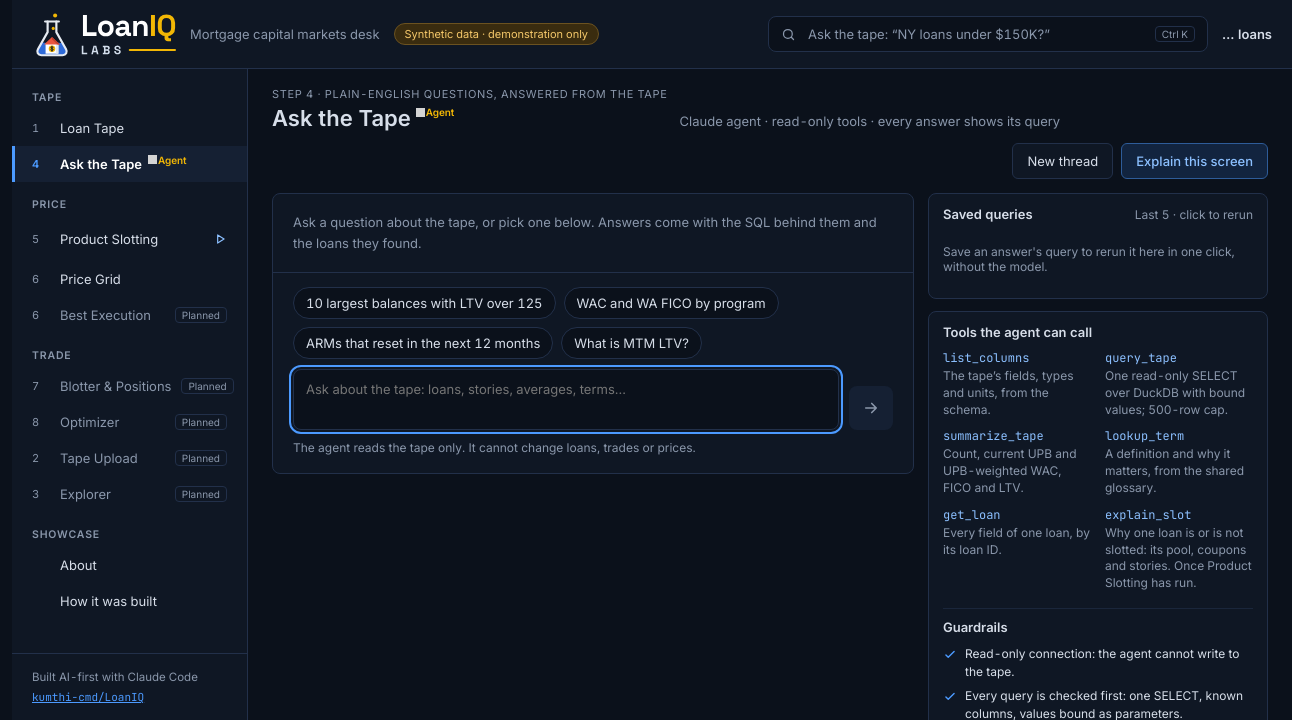
Test case: Ask the Tape › shows the server's reason when a question is refused
This screenshot has width=1292, height=720.
Type "x" into the text box named "Ask the tape".
click(566, 399); type("x")  # box x1=293 y1=369 x2=839 y2=430
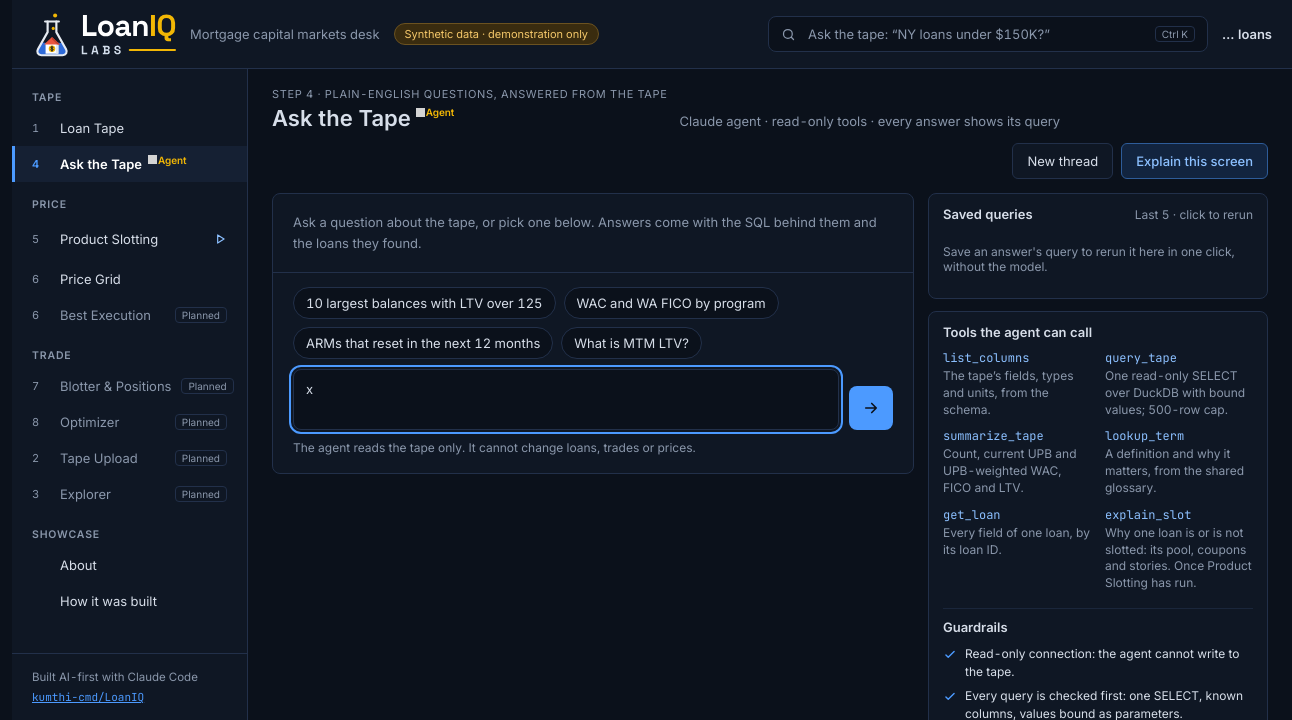
Press Enter
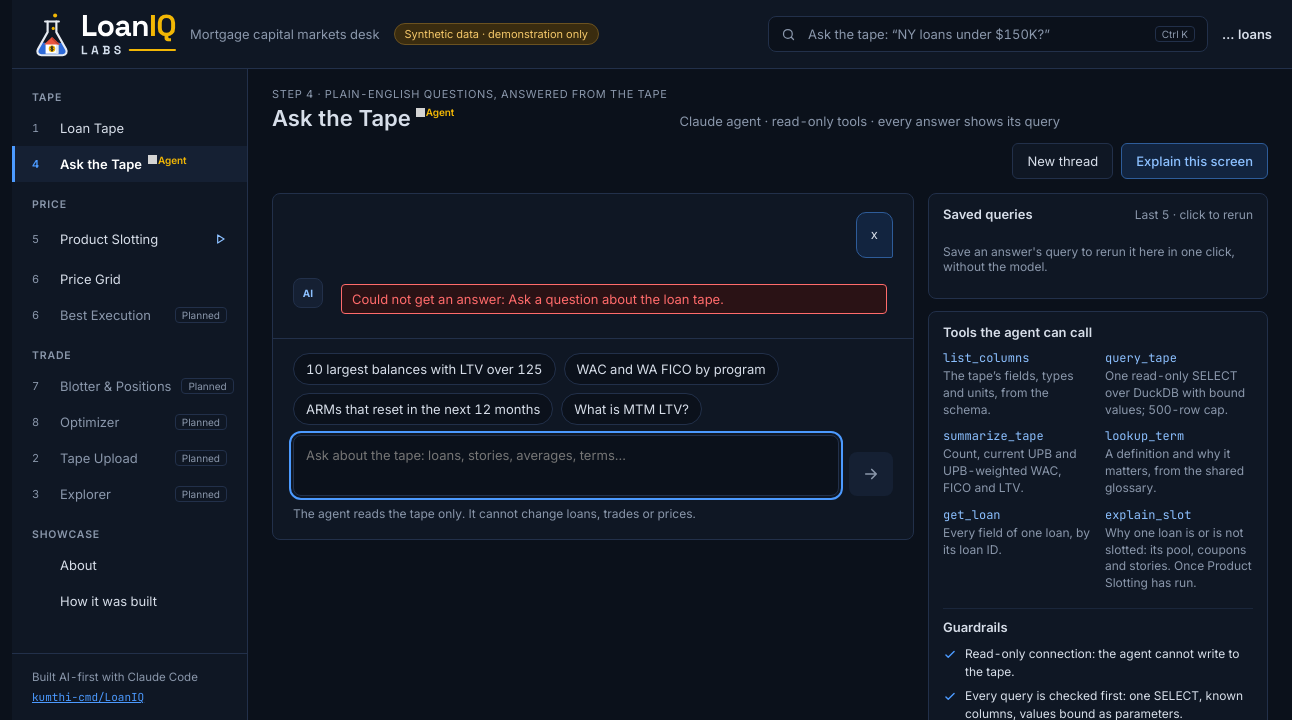
Expected: the message reads "Could not get an answer: Ask a question about the loan tape.", x1=341 y1=284 x2=887 y2=314
